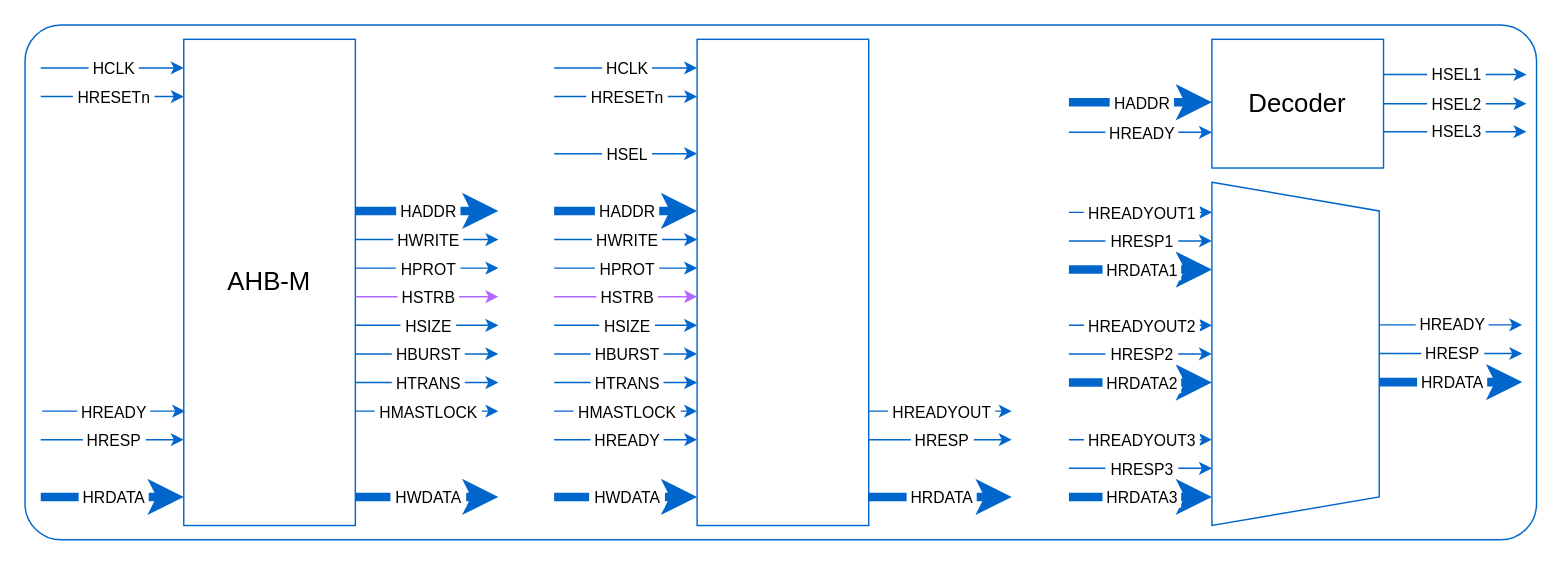
Image size: 1563x565. Some labels were removed from this diagram. Each missing label, with the centre of its shape:
AHB-S: pixel 782 282
Multiplexor: pixel 1294 353
